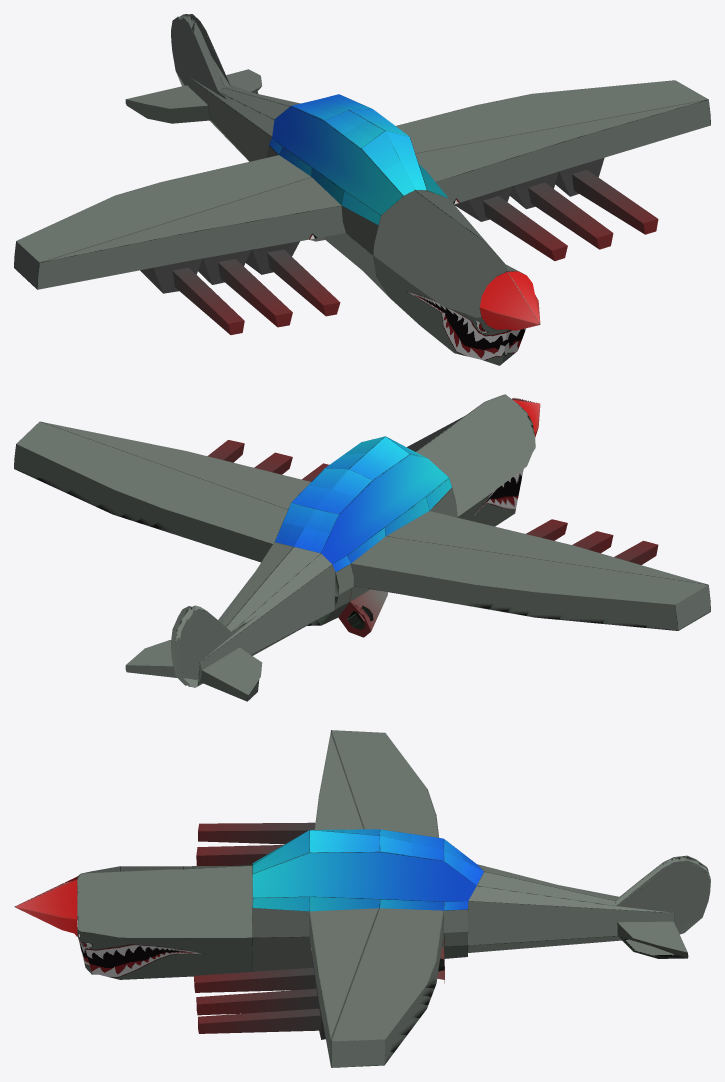
Rendered from vaisseausharknado.fbx.
The picture shows the model from 3 angles, top to bottom: view 1: azimuth 30°, elevation 25°; view 2: azimuth 150°, elevation 25°; view 3: azimuth 270°, elevation 25°; orthographic projection. The views are drawn at different scales.
Visible parts, largest first — view 1: Cone; view 2: Cone; view 3: Cone.
Boxes of the visible parts, <box> form: Cone: <box>14,14,710,365</box>; Cone: <box>14,394,710,701</box>; Cone: <box>14,730,710,1067</box>.
Bounding box in the file's own units: 7.54 × 1.63 × 7.09.
1 material, 1 textured.
